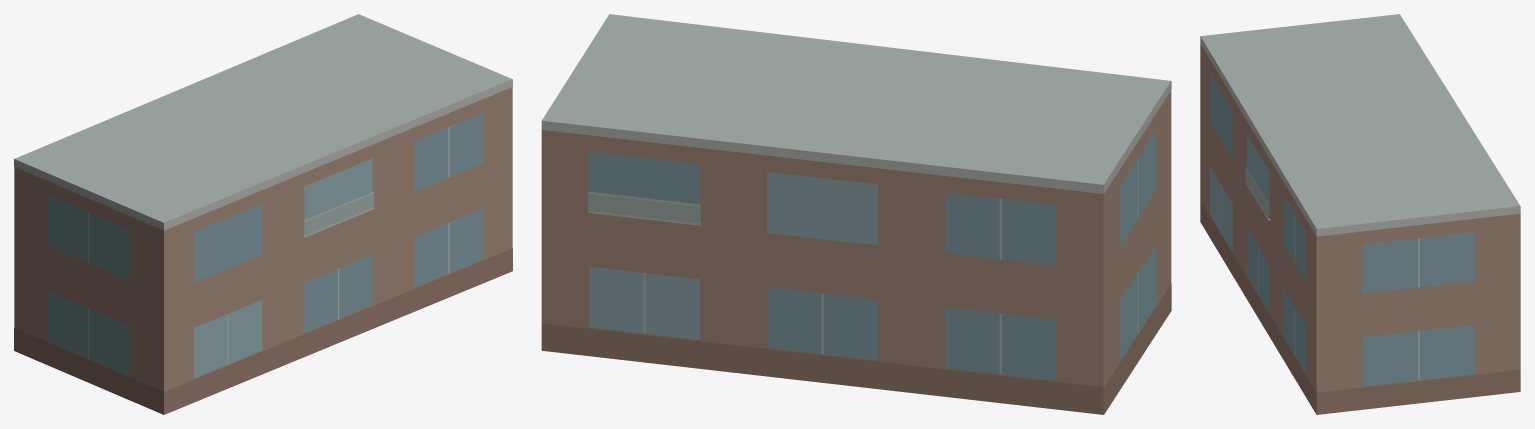
Rendered from survey-upis-32926758.glb.
The picture shows the model from 3 angles, left to right: view 1: azimuth 30°, elevation 25°; view 2: azimuth 150°, elevation 25°; view 3: azimuth 270°, elevation 25°; orthographic projection. The views are drawn at different scales.
Visible parts, largest first — view 1: survey-upis-32926758.tmp; view 2: survey-upis-32926758.tmp; view 3: survey-upis-32926758.tmp.
Boxes of the visible parts, <box> form: survey-upis-32926758.tmp: <box>14,14,512,414</box>; survey-upis-32926758.tmp: <box>541,14,1171,414</box>; survey-upis-32926758.tmp: <box>1200,14,1520,414</box>.
Bounding box in the file's own units: 15.16 × 6.1 × 9.54.
